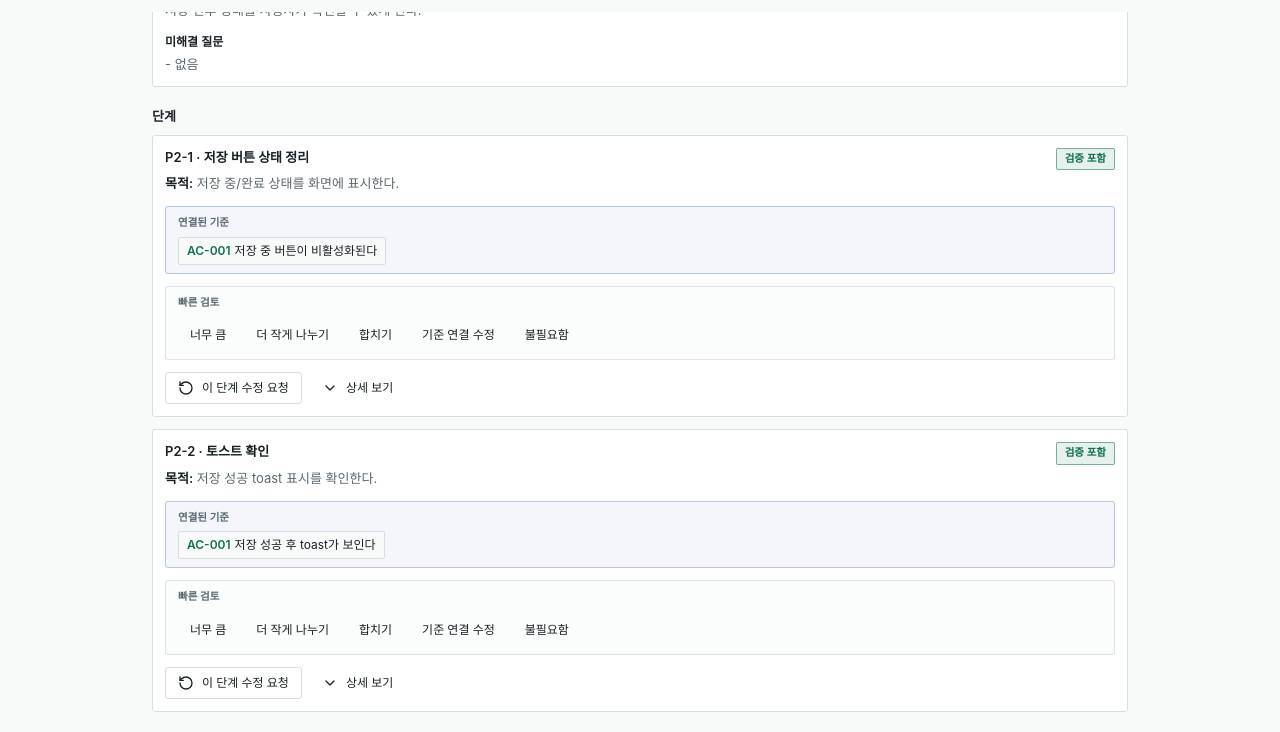
Test case: PlanDraftApprovalScreen intent and step review surface › shows goal, acceptance criteria, expected files, verification, dependencies, and parallel group
(page scrolled)
Expected: the number of list items with test id "plan-draft-step" is 2, [152,134,1128,417]; [152,429,1128,712]
Expected: the text "검증 포함" in the row of "저장 버튼 상태 정리" is shown, [1065,152,1106,164]
Click the button with test id "plan-draft-step-details-toggle".
click(358, 388)  # box [310,372,405,404]
(page scrolled)
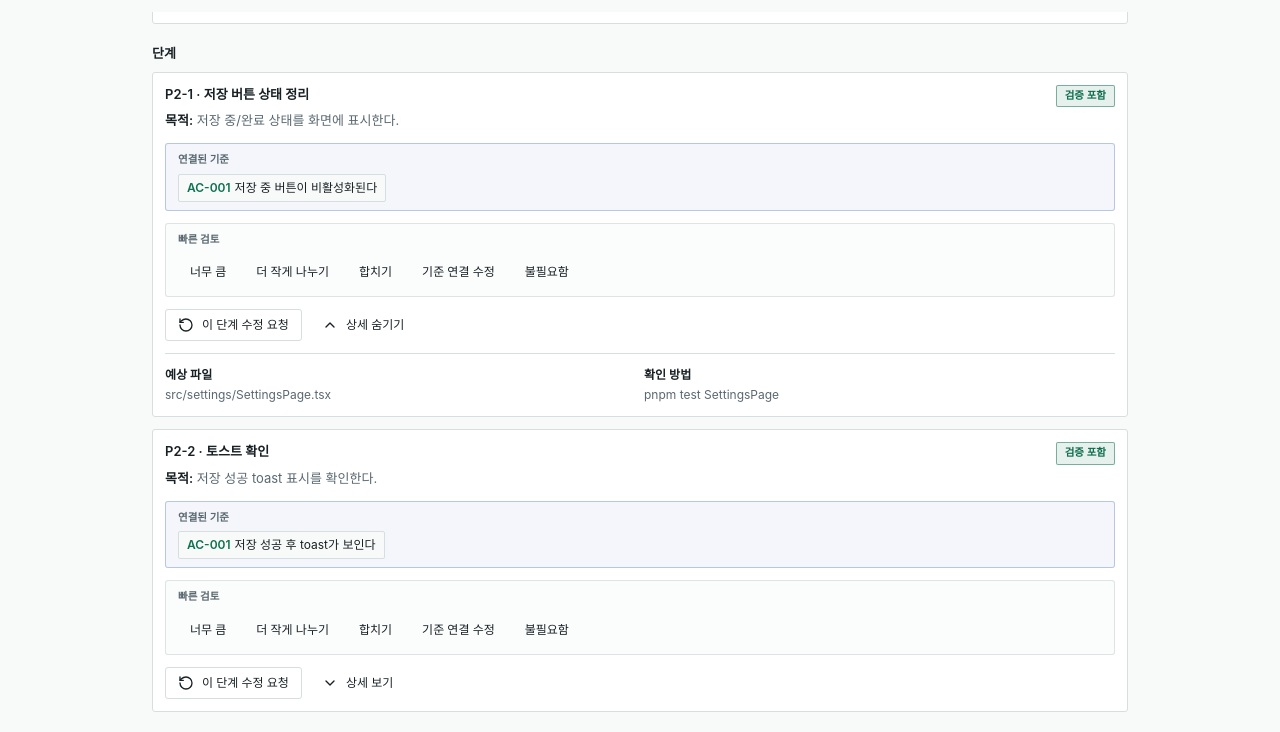
Result: the text "src/settings/SettingsPage.tsx" is shown at [165,387,331,402]
Result: the text "pnpm test SettingsPage" is shown at [644,387,779,402]
Click the button with test id "plan-draft-step-details-toggle".
click(358, 683)  # box [310,667,405,699]
(page scrolled)
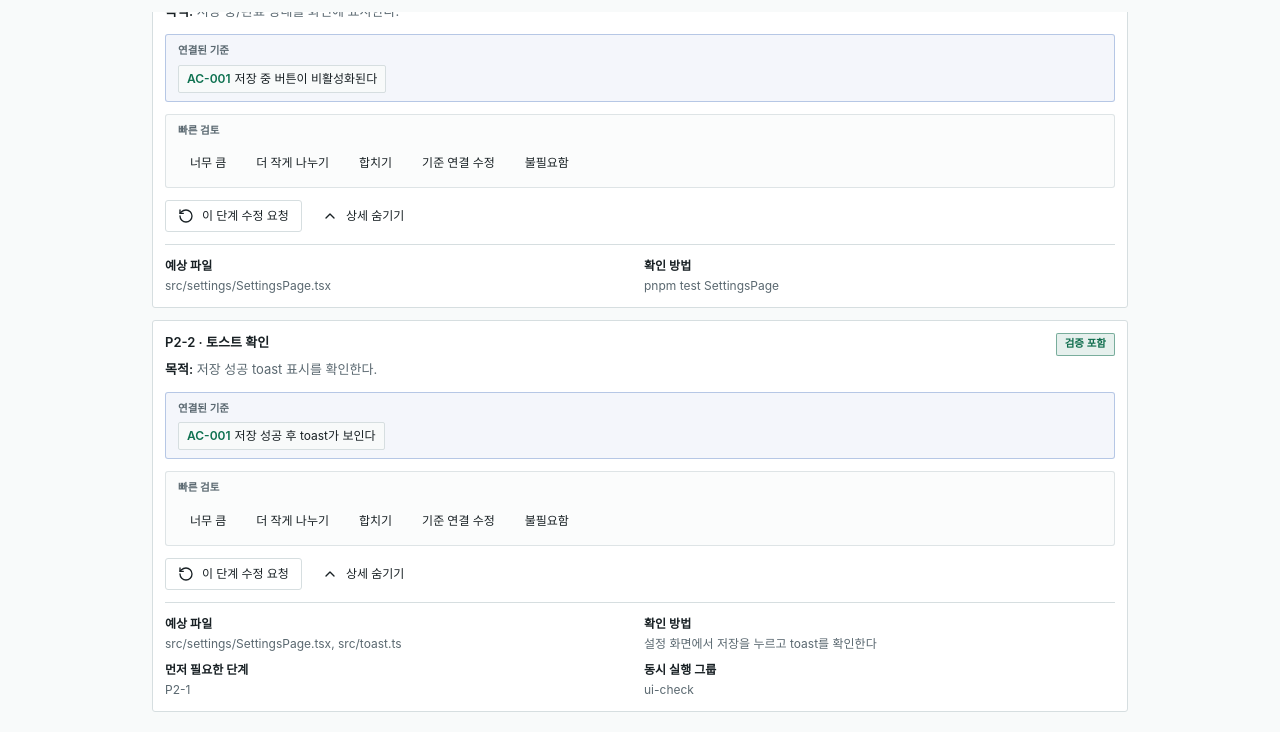
Expected: the text "P2-1" is shown, [165,682,190,697]
Result: the text "설정 화면에서 저장을 누르고 toast를 확인한다" is shown at [644,636,877,651]
Result: the text "ui-check" is shown at [644,682,694,697]
